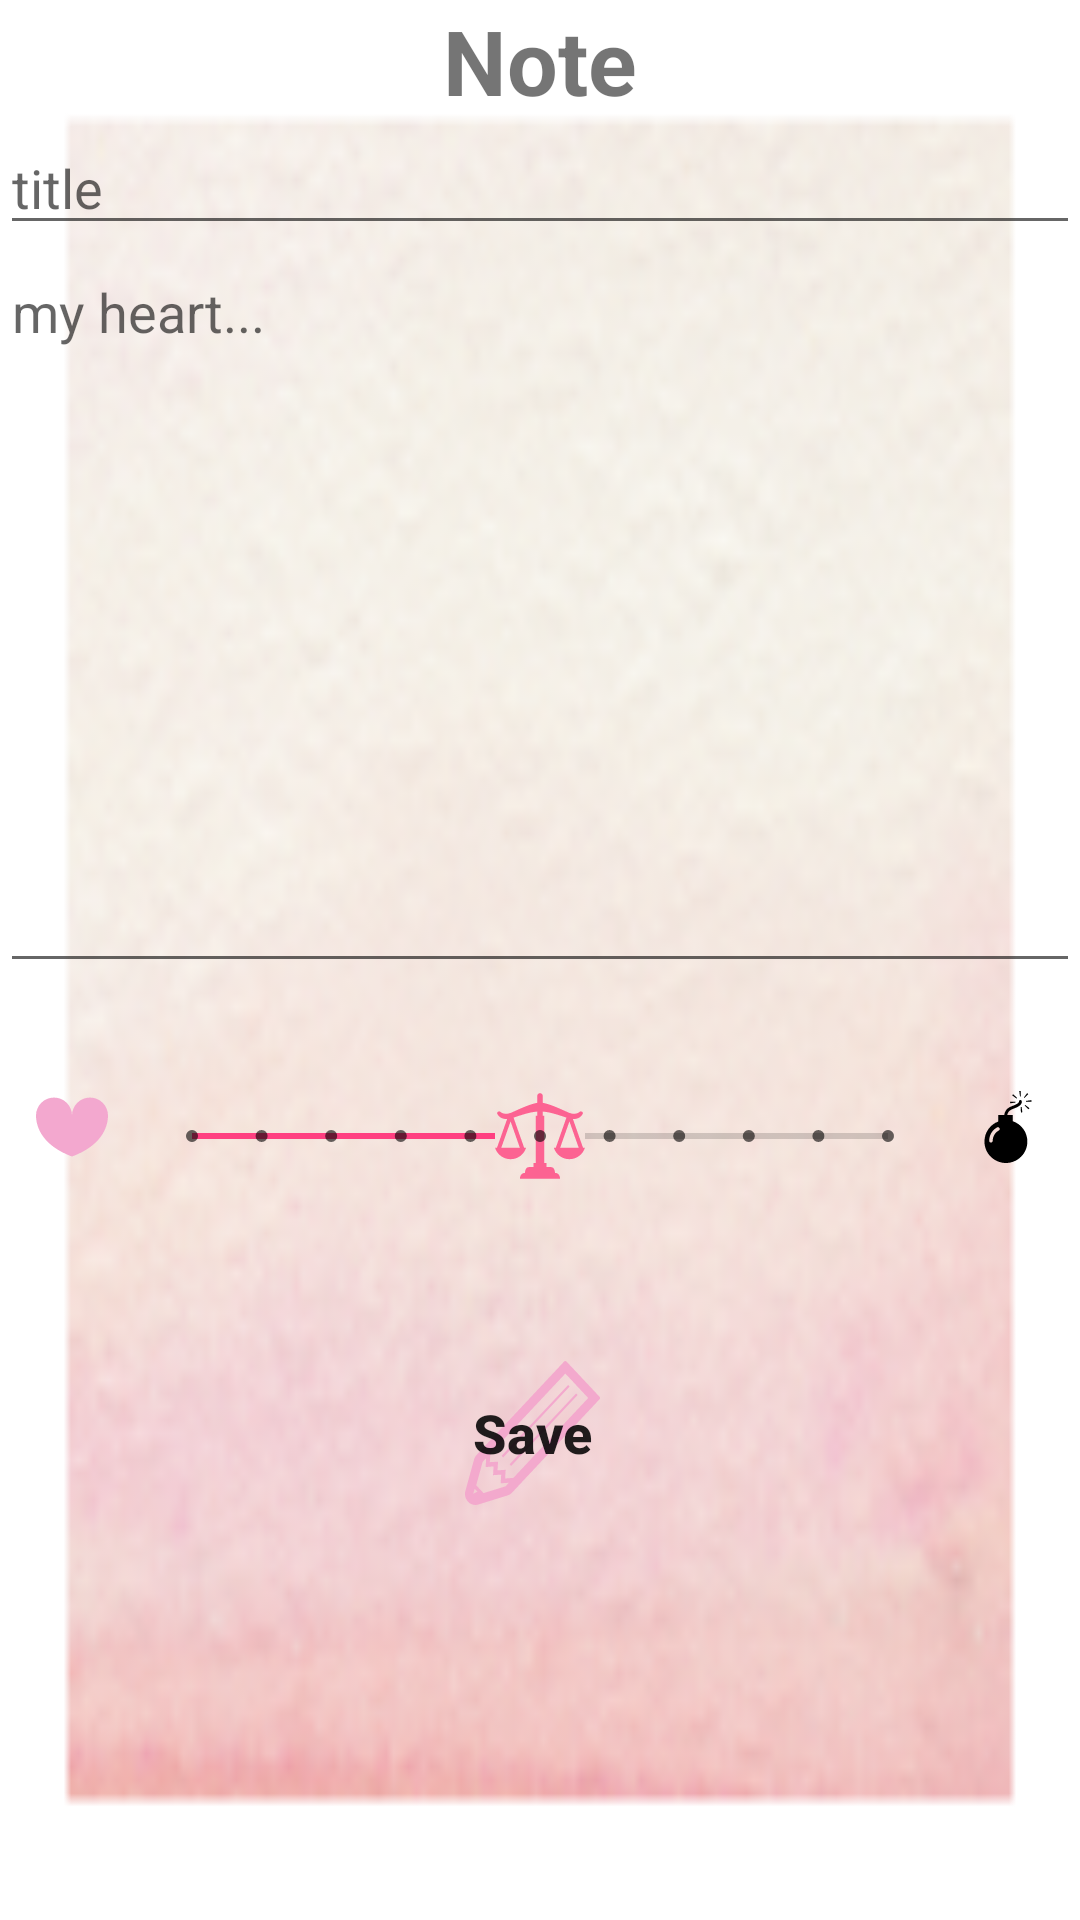

Icon bounding boxes for this 1080×1920 phone screenshot, format [x1,y1,x2,y2]:
bomb: [984,1091,1080,1163]
